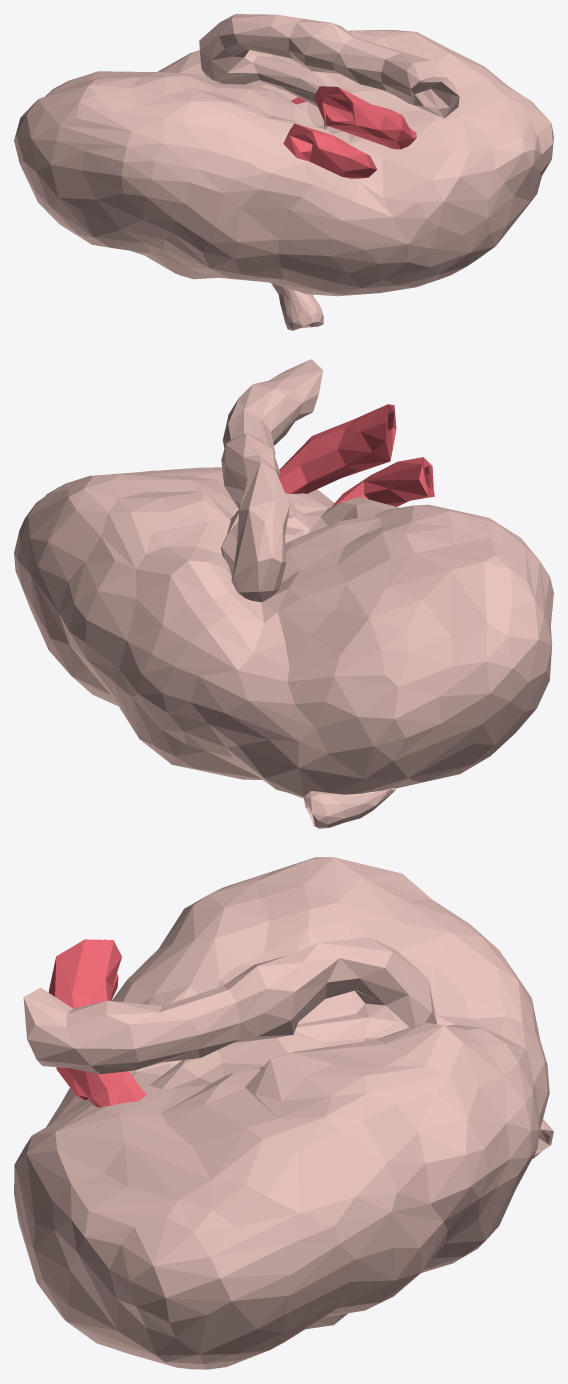
The model's file is NIH_M_Lymph_Node_0.1.glb.
The picture shows the model from 3 angles, top to bottom: view 1: azimuth 30°, elevation 25°; view 2: azimuth 150°, elevation 25°; view 3: azimuth 270°, elevation 25°; orthographic projection. The views are drawn at different scales.
Parts seen in each view (by area): view 1: Yao_capsule_of_lymph_node, Yao_efferent_lymph_node, Yao_blood_vasculature, Yao_afferent_lymphatic_vessel; view 2: Yao_capsule_of_lymph_node, Yao_efferent_lymph_node, Yao_blood_vasculature, Yao_afferent_lymphatic_vessel; view 3: Yao_capsule_of_lymph_node, Yao_efferent_lymph_node, Yao_blood_vasculature.
Part boxes in pixels (bbox=[...]): Yao_capsule_of_lymph_node: bbox=[14, 30, 553, 296]; Yao_efferent_lymph_node: bbox=[199, 14, 459, 131]; Yao_blood_vasculature: bbox=[283, 86, 416, 178]; Yao_afferent_lymphatic_vessel: bbox=[271, 283, 323, 330]; Yao_capsule_of_lymph_node: bbox=[14, 467, 553, 798]; Yao_efferent_lymph_node: bbox=[221, 359, 322, 602]; Yao_blood_vasculature: bbox=[279, 404, 434, 506]; Yao_afferent_lymphatic_vessel: bbox=[304, 788, 396, 828]; Yao_capsule_of_lymph_node: bbox=[14, 857, 549, 1369]; Yao_efferent_lymph_node: bbox=[23, 937, 436, 1089]; Yao_blood_vasculature: bbox=[48, 939, 146, 1107].
Bounding box in the file's own units: 0.0183 × 0.0107 × 0.013.
